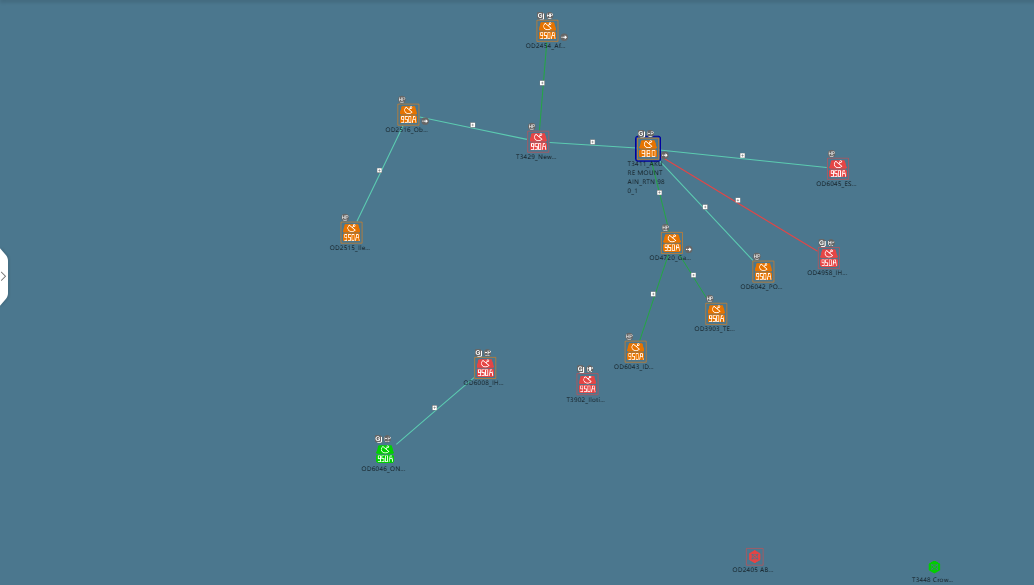Link_Blue: (662, 171, 745, 250), (397, 380, 465, 440), (662, 147, 829, 171), (359, 128, 399, 208), (428, 115, 515, 136), (582, 141, 633, 152)
Link_Green: (637, 257, 666, 336), (649, 160, 674, 229), (682, 257, 712, 307)
Link_Red: (662, 154, 822, 255)
RTN_Green: (378, 444, 396, 469)
RTN_Orange: (397, 102, 422, 126), (662, 231, 687, 255), (624, 341, 648, 365), (753, 263, 777, 280), (339, 225, 364, 241), (637, 141, 661, 157), (540, 18, 556, 42), (708, 302, 724, 326)
RTN_Red: (578, 373, 603, 398), (818, 250, 842, 268), (527, 134, 551, 152), (475, 360, 499, 377), (830, 160, 847, 176)
